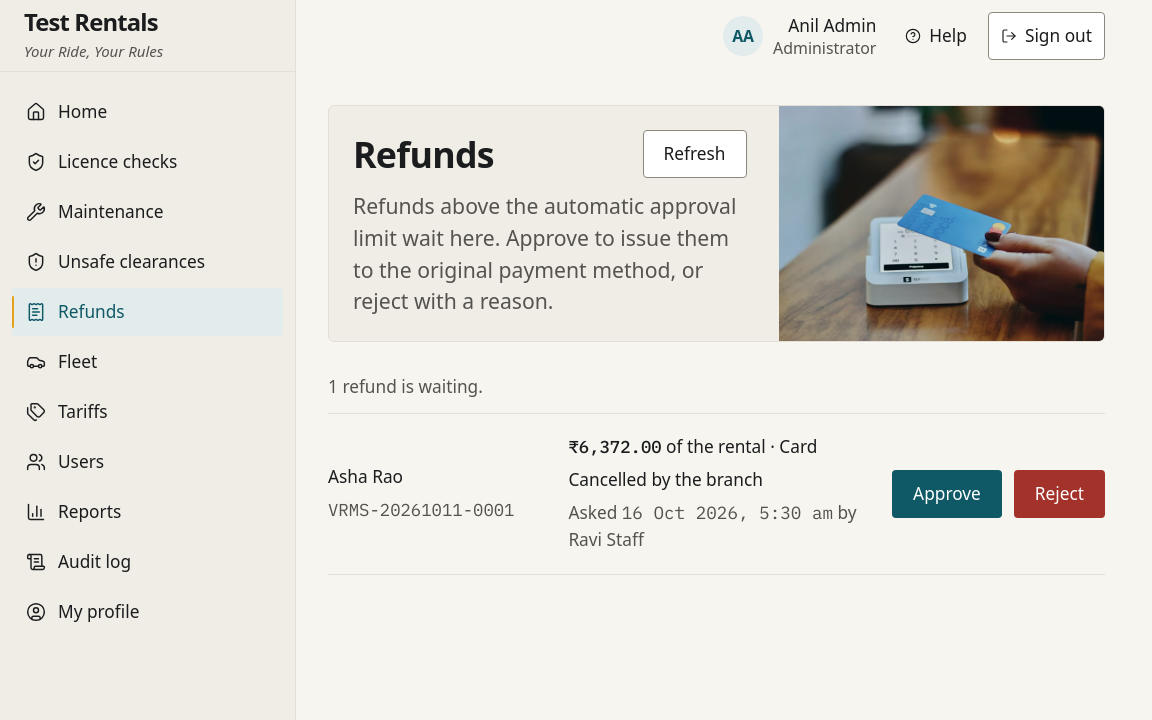
refund approval (UC 13 Approve Refund) › approves with the password; the refund is issued and the queue empties
Click the button "Approve": (947, 494) left=892, top=470, right=1002, bottom=518
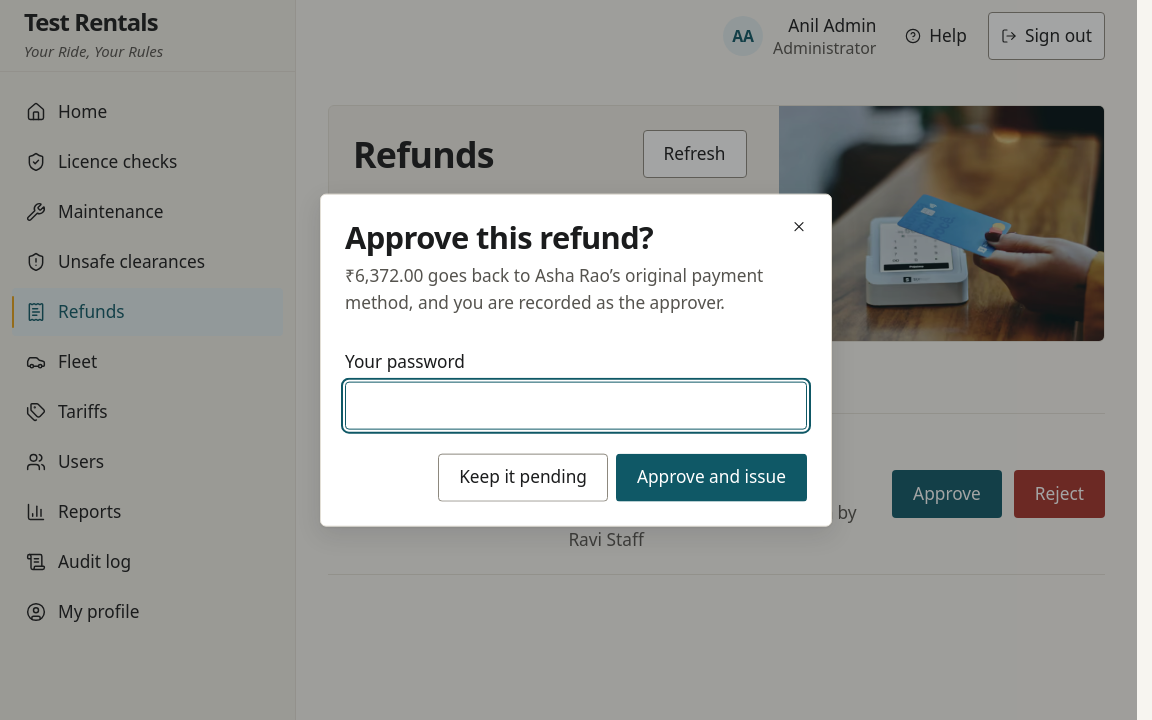
Now the dialog shows "you are recorded as the approver", box left=345, top=264, right=763, bottom=314
In the password field labelled "Your password": (576, 405) left=345, top=381, right=807, bottom=429, type "Test@12345"
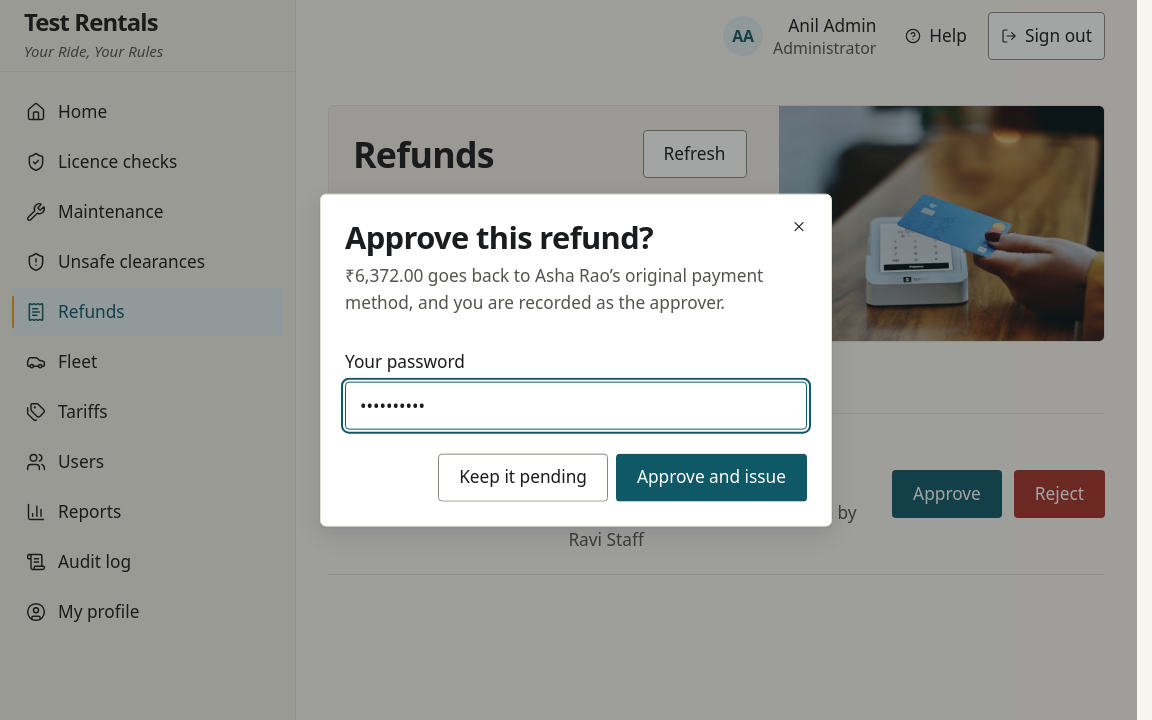
Click the button "Approve and issue": (712, 477) left=616, top=453, right=807, bottom=501
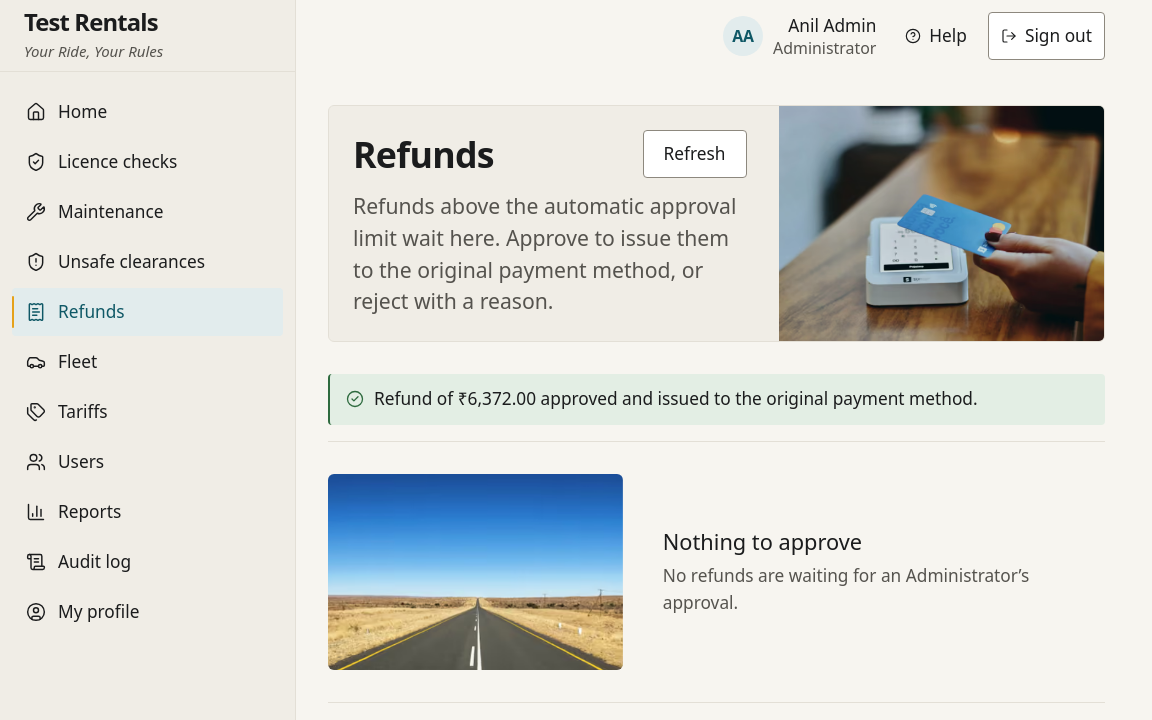
Now the text "Refund of ₹6,372.00 approved and issued to the original payment method." is shown, box left=374, top=386, right=978, bottom=413
Now the text "Nothing to approve" is shown, box left=663, top=528, right=862, bottom=555
